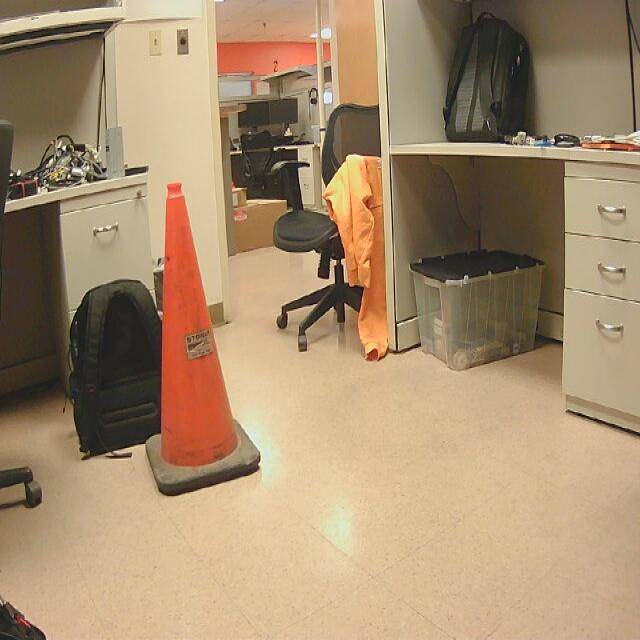traffic cone: (146, 184, 262, 500)
